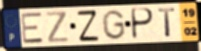E: (20, 11, 46, 45)
G: (100, 9, 127, 41)
P: (131, 7, 156, 41)
T: (157, 7, 177, 39)
Z: (44, 10, 71, 45), (76, 9, 101, 43)
